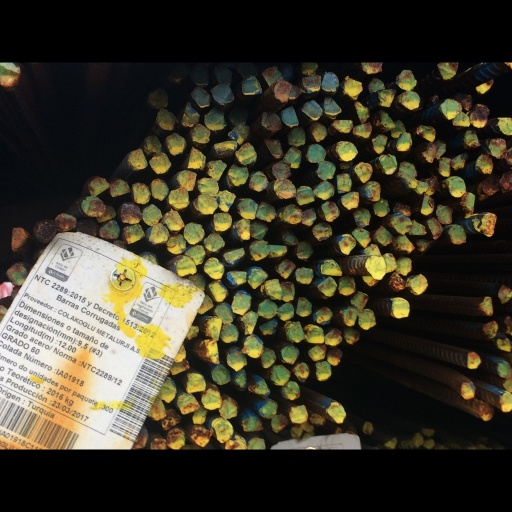dipstick: (399, 127, 417, 166), (259, 64, 282, 94), (179, 50, 199, 84), (80, 176, 105, 203), (148, 119, 171, 148), (212, 29, 235, 58), (120, 183, 142, 213), (165, 92, 186, 123), (319, 257, 343, 284), (33, 209, 56, 237), (156, 59, 176, 91), (365, 254, 385, 286), (190, 476, 211, 506), (211, 470, 232, 500), (128, 113, 148, 144), (206, 60, 226, 91), (235, 105, 255, 136), (227, 132, 247, 163), (147, 213, 169, 241), (240, 17, 261, 46), (6, 263, 26, 293), (121, 214, 145, 239), (164, 193, 184, 223), (395, 9, 418, 35), (273, 153, 296, 179), (259, 2, 281, 29), (190, 33, 212, 60), (374, 215, 393, 246), (99, 207, 119, 236), (210, 398, 230, 427), (9, 218, 26, 252), (434, 1, 458, 25), (222, 246, 246, 270), (231, 300, 249, 332), (280, 187, 302, 213), (475, 119, 494, 149), (390, 310, 409, 340), (227, 378, 246, 408), (168, 166, 189, 193), (335, 104, 358, 128), (343, 19, 362, 48), (379, 119, 398, 148), (300, 16, 322, 41), (197, 150, 219, 175), (302, 50, 323, 76), (175, 255, 196, 281), (132, 158, 150, 188), (191, 80, 211, 107), (353, 216, 371, 246), (196, 173, 216, 200), (238, 179, 256, 209), (248, 234, 268, 261), (203, 259, 223, 286), (287, 341, 305, 371), (327, 447, 345, 477), (446, 150, 465, 178), (304, 108, 326, 132), (391, 200, 413, 224), (183, 213, 204, 238), (185, 241, 206, 266), (271, 23, 289, 52), (244, 361, 262, 390), (166, 483, 184, 512), (147, 33, 167, 59), (77, 203, 97, 229), (285, 84, 305, 110), (314, 156, 334, 182), (247, 144, 267, 170), (204, 224, 224, 250), (256, 312, 276, 338), (186, 411, 206, 437), (400, 37, 419, 64), (322, 44, 341, 71), (207, 127, 226, 154), (151, 152, 168, 182), (285, 110, 302, 140), (204, 363, 219, 397), (109, 152, 130, 176), (247, 270, 265, 298), (202, 431, 220, 459), (56, 199, 76, 224), (189, 113, 205, 144), (442, 46, 461, 72), (352, 191, 371, 217), (166, 226, 185, 252), (294, 269, 313, 295), (214, 318, 233, 344), (179, 439, 198, 465), (257, 183, 274, 212), (319, 283, 336, 312), (282, 1, 300, 28), (488, 100, 506, 127), (448, 214, 466, 241), (353, 131, 371, 158), (338, 227, 356, 254), (266, 287, 284, 314), (408, 279, 426, 306), (236, 0, 259, 21), (175, 144, 196, 167), (225, 273, 246, 296), (212, 103, 236, 123), (464, 85, 481, 113), (214, 195, 231, 223), (314, 395, 331, 423), (394, 227, 413, 252), (208, 288, 227, 313), (215, 3, 233, 29), (435, 187, 453, 213), (265, 99, 283, 125), (322, 12, 338, 41), (219, 168, 235, 197), (240, 330, 256, 359), (481, 197, 495, 230), (266, 237, 287, 259), (162, 416, 176, 449), (242, 466, 263, 488), (193, 2, 210, 29), (282, 58, 299, 85), (308, 78, 327, 102), (272, 130, 291, 154), (312, 210, 331, 234), (280, 373, 299, 397), (290, 399, 309, 423), (290, 453, 309, 477), (172, 1, 190, 26), (375, 64, 393, 89), (321, 183, 339, 208), (277, 259, 295, 284), (306, 346, 324, 371), (205, 336, 220, 366), (221, 443, 237, 471), (478, 446, 494, 474), (377, 36, 396, 59), (235, 206, 250, 235), (149, 443, 164, 472), (372, 93, 388, 120), (188, 278, 206, 302), (296, 310, 312, 337), (338, 283, 356, 307), (314, 322, 332, 346), (221, 343, 237, 370), (272, 400, 288, 427), (233, 406, 249, 433), (360, 0, 385, 17), (342, 170, 359, 195), (295, 235, 312, 260), (324, 351, 341, 376), (88, 152, 108, 173), (423, 105, 438, 133), (382, 251, 397, 279), (496, 392, 511, 420), (332, 75, 354, 94), (317, 130, 336, 152), (496, 72, 512, 98), (359, 326, 375, 352), (341, 322, 357, 348), (144, 96, 162, 119), (143, 188, 161, 211), (230, 61, 248, 84), (388, 277, 406, 300), (353, 51, 368, 78), (301, 190, 316, 217), (271, 465, 287, 490), (482, 340, 498, 365), (230, 83, 249, 104), (259, 340, 278, 361), (250, 418, 269, 439), (472, 60, 486, 88), (261, 376, 275, 404), (296, 164, 313, 187), (281, 219, 298, 242), (343, 350, 360, 373), (199, 308, 216, 331), (281, 422, 298, 445), (163, 459, 180, 482), (483, 152, 498, 178), (426, 206, 441, 232), (251, 208, 267, 232), (417, 84, 436, 104), (354, 79, 373, 99), (300, 0, 321, 18), (397, 92, 412, 117), (336, 147, 351, 172), (396, 255, 411, 280), (278, 315, 293, 340), (261, 445, 276, 470), (372, 181, 389, 203), (421, 175, 435, 201), (498, 435, 511, 463), (306, 373, 325, 392), (499, 145, 511, 175), (102, 188, 117, 212), (171, 394, 188, 415), (476, 20, 493, 41), (480, 308, 493, 335), (498, 292, 511, 319), (466, 381, 480, 406), (369, 18, 384, 41), (352, 302, 367, 325), (393, 180, 410, 200), (454, 64, 470, 85), (437, 126, 451, 150), (136, 482, 148, 510), (496, 362, 512, 383), (365, 157, 380, 179), (461, 421, 475, 444), (364, 240, 382, 257), (425, 153, 437, 178), (411, 210, 426, 230), (288, 479, 303, 499), (392, 75, 405, 98), (328, 377, 341, 400), (149, 495, 166, 512), (288, 27, 300, 51), (460, 42, 473, 64), (226, 498, 246, 512), (452, 121, 468, 138), (190, 461, 206, 478), (248, 495, 264, 512), (310, 465, 327, 481), (416, 232, 431, 250), (362, 281, 380, 296), (464, 172, 475, 196), (185, 347, 198, 367), (414, 156, 426, 177), (502, 333, 511, 360), (176, 375, 188, 394), (437, 103, 446, 128), (477, 54, 490, 71), (362, 473, 373, 492), (413, 489, 423, 509), (385, 497, 399, 511), (422, 482, 435, 494), (503, 415, 511, 434), (303, 475, 313, 489), (425, 496, 435, 509), (403, 500, 414, 510)
